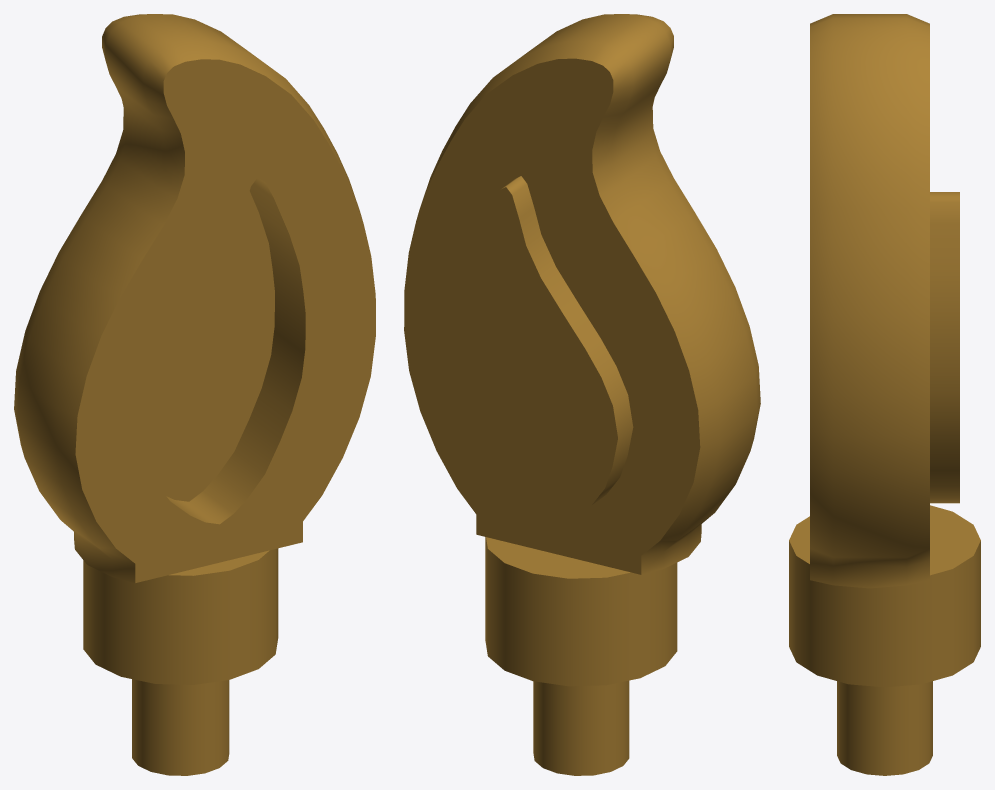
The model's file is Fire.dae.
The picture shows the model from 3 angles, left to right: view 1: azimuth 30°, elevation 25°; view 2: azimuth 150°, elevation 25°; view 3: azimuth 270°, elevation 25°; orthographic projection. The views are drawn at different scales.
Visible parts, largest first — view 1: Part.0; view 2: Part.0; view 3: Part.0.
Part boxes in pixels (left/top/right/bottom): Part.0: left=14, top=14, right=375, bottom=775; Part.0: left=404, top=14, right=760, bottom=775; Part.0: left=789, top=14, right=980, bottom=775.
Size of the model in its own units: 5.96 by 13.26 by 3.2.
